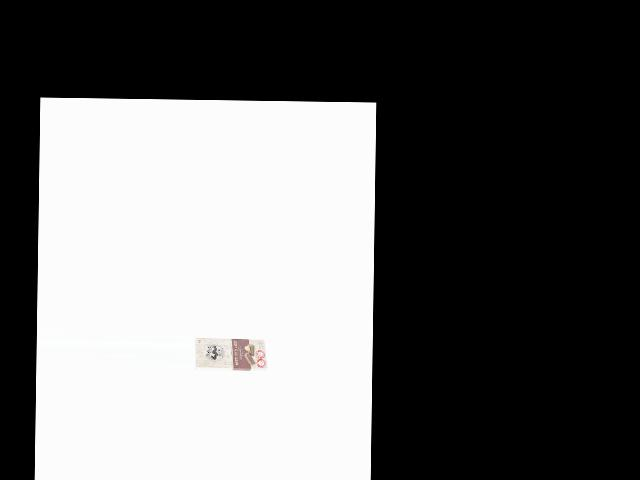chocolate: (194, 336, 269, 376)
